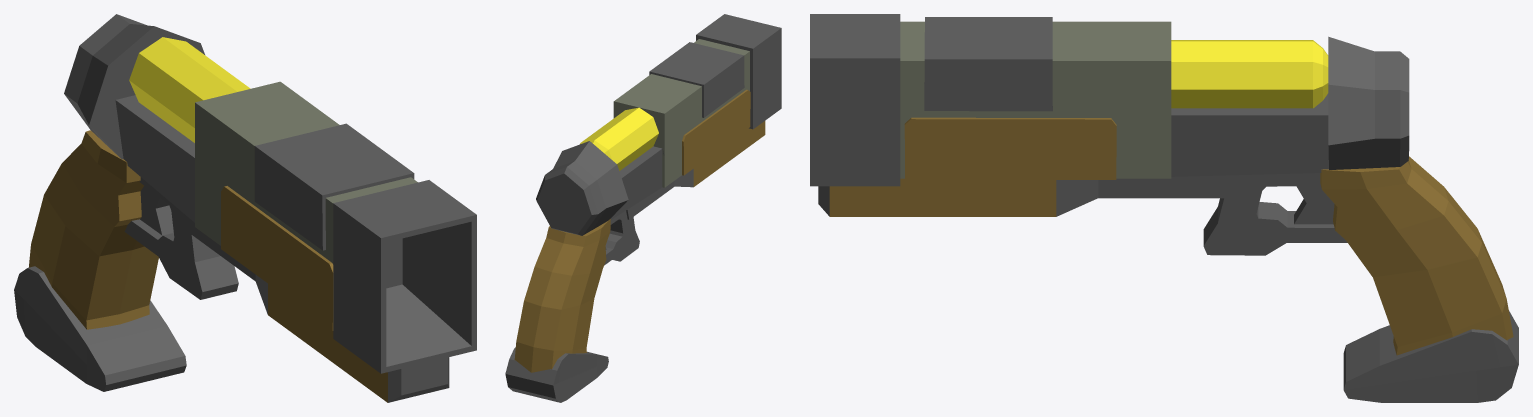
The model's file is model-weapon-static-cubeman-laserGun.fbx.
The picture shows the model from 3 angles, left to right: view 1: azimuth 30°, elevation 25°; view 2: azimuth 150°, elevation 25°; view 3: azimuth 270°, elevation 25°; orthographic projection. The views are drawn at different scales.
Visible parts, largest first — view 1: mesh; view 2: mesh; view 3: mesh.
Part boxes in pixels (x1=…): mesh: x1=14, y1=14, x2=476, y2=402; mesh: x1=505, y1=14, x2=781, y2=402; mesh: x1=810, y1=14, x2=1518, y2=402.
Bounding box in the file's own units: 0.8409 × 4.18 × 2.27.
